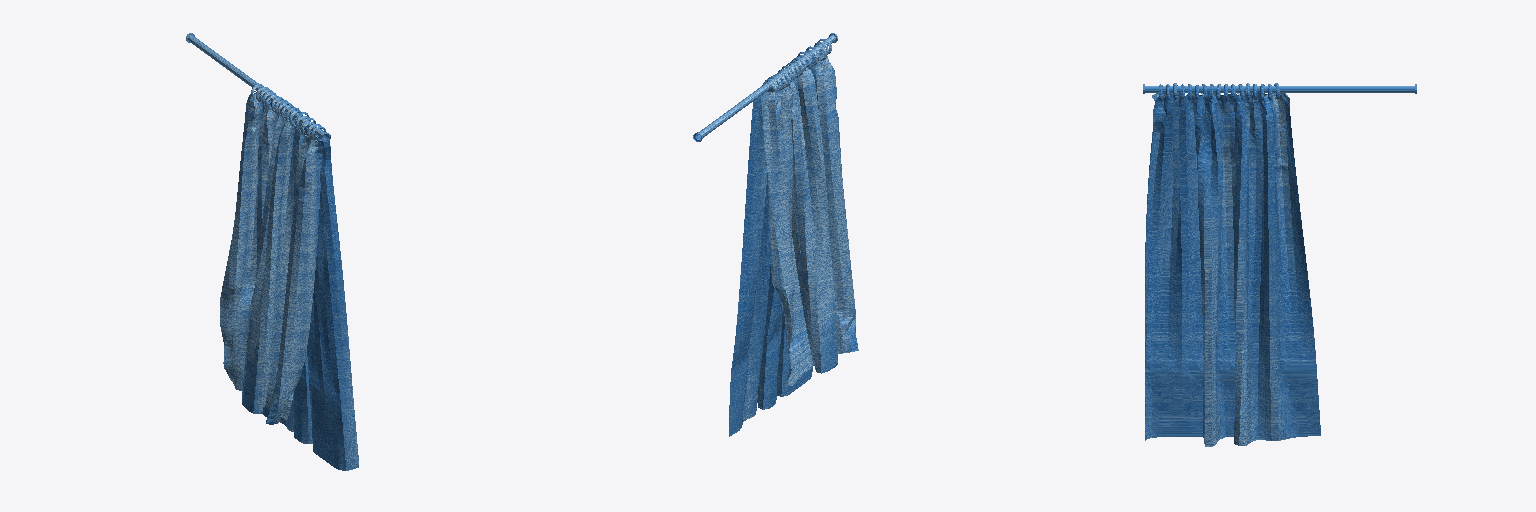
3 renders of one model, left to right at view 1: azimuth 30°, elevation 25°; view 2: azimuth 150°, elevation 25°; view 3: azimuth 270°, elevation 25°, orthographic.
Visible parts, largest first — view 1: ShowerCurtain; view 2: ShowerCurtain; view 3: ShowerCurtain.
Boxes of the visible parts, <box> form: ShowerCurtain: <box>186,33,358,470</box>; ShowerCurtain: <box>693,33,858,436</box>; ShowerCurtain: <box>1143,83,1416,446</box>.
Bounding box in the file's own units: 3.74 × 15.28 × 10.95.
Materials: 1 (1 with a texture image).